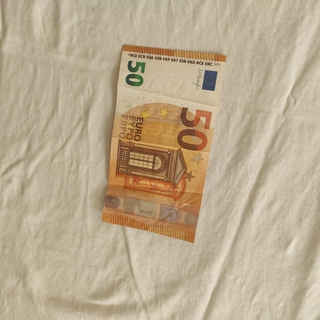50EUROFront: (99, 42, 227, 244)
